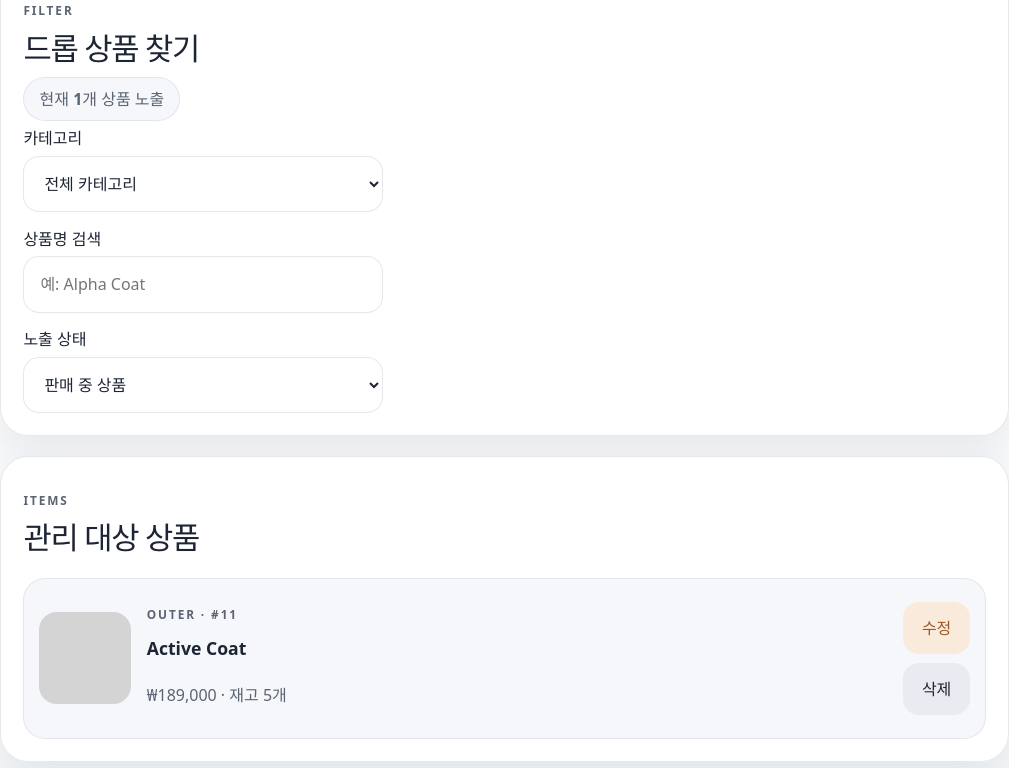
AdminItemsPage › loads deleted items only when the admin switches the visibility filter
The width and height of the screenshot is (1024, 768).
(page scrolled)
Check: the heading "Active Coat" is shown, box x1=147 y1=636 x2=246 y2=660
Select "삭제된 상품" in the dropdown labelled "노출 상태" at (203, 385), box x1=23 y1=357 x2=383 y2=413
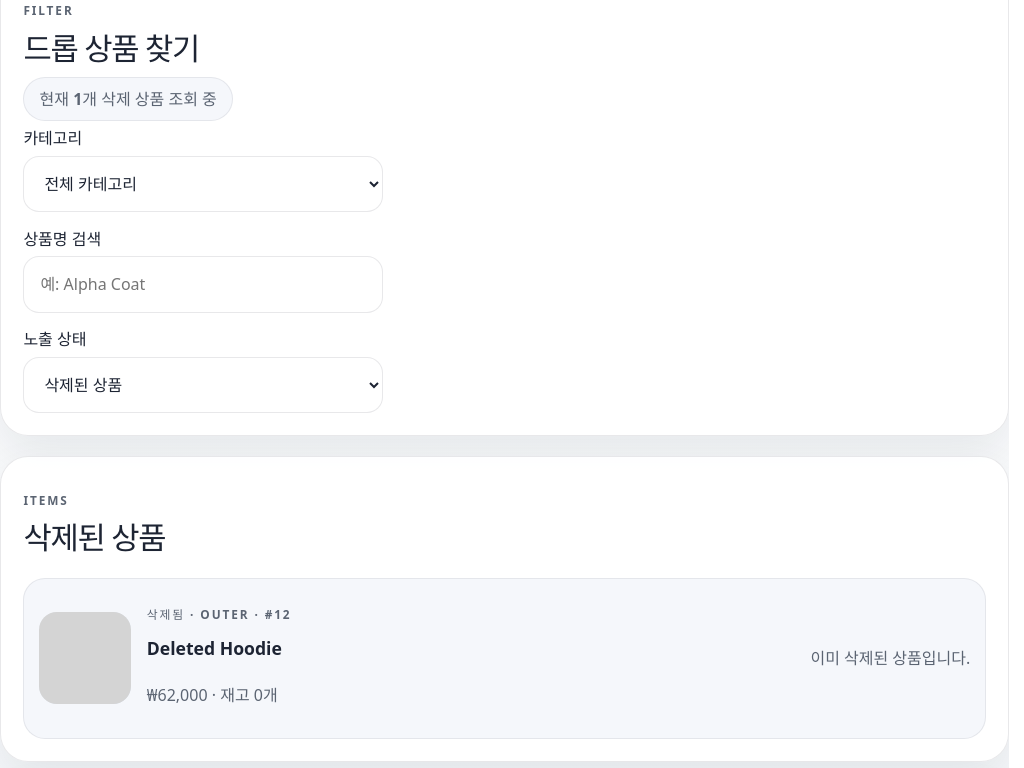
Check: the heading "Deleted Hoodie" is shown, box x1=147 y1=636 x2=282 y2=660
Check: the text "이미 삭제된 상품입니다." is shown, box x1=810 y1=646 x2=970 y2=670
